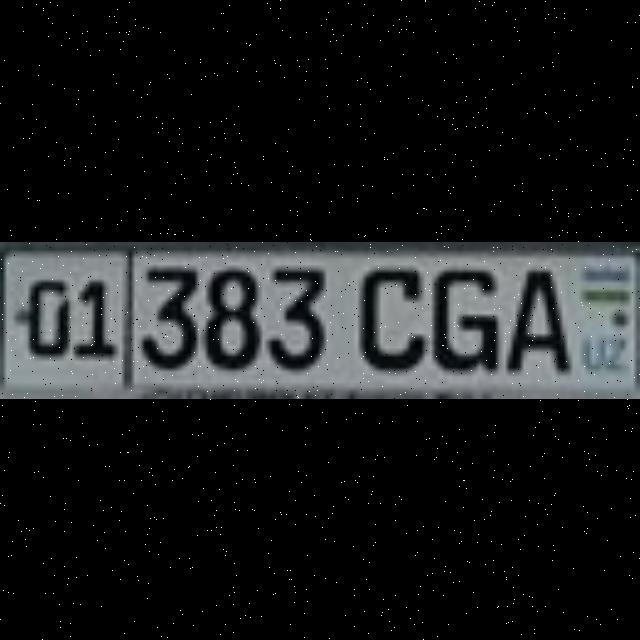0: (20, 270, 64, 350)
1: (64, 270, 108, 354)
3: (133, 255, 197, 358), (260, 256, 320, 364)
8: (197, 255, 256, 358)
A: (498, 260, 566, 364)
C: (354, 260, 418, 364)
G: (423, 260, 492, 364)
